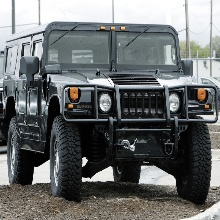no damage: (3, 23, 220, 202)
